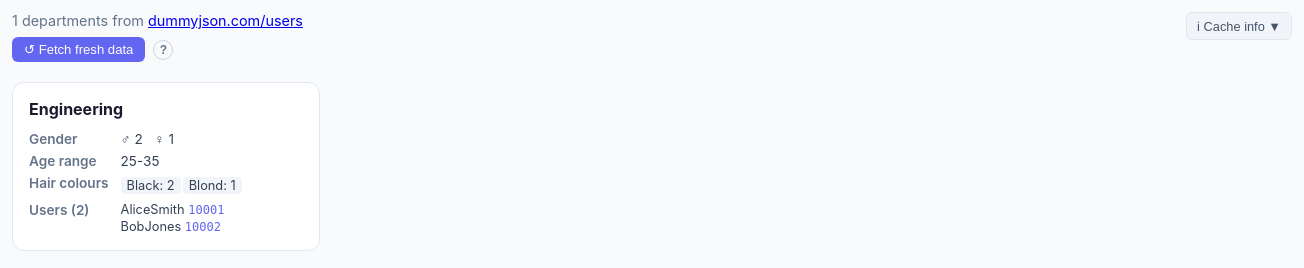
it: UsersPage › shows tooltip when ? button is clicked
The image size is (1304, 268).
Expected: the heading "Engineering" is shown, [29,99,123,119]
Click the button named "What does this do?".
click(163, 50)  # box [153,40,173,60]
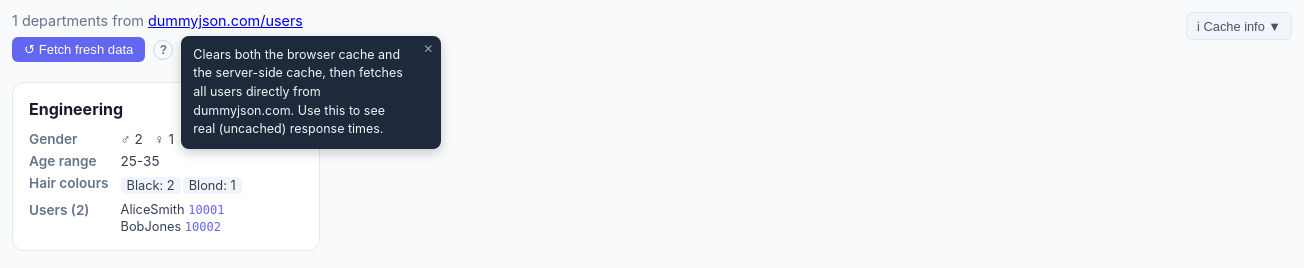
Now the text "Clears both" is shown, box [193,46,403,136]
